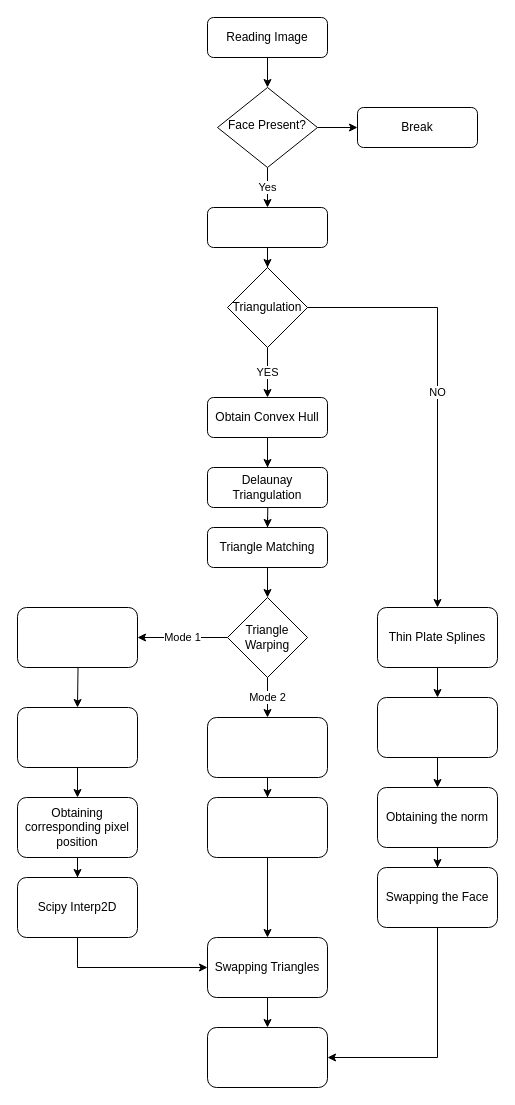
The diagram is 515 pixels wide and 1105 high, and some of its shapes have lost their labels. The centre of each missing label's shape, as x and y in pixels:
Affine Transformation: point (267, 827)
Barycentric Corrdiates: point (77, 737)
Detect Facial Landmarks: point (267, 227)
Estimating parameters: point (437, 727)
Face Blending: point (267, 1057)
Forward Warping: point (267, 747)
Inverse Warping: point (77, 637)
